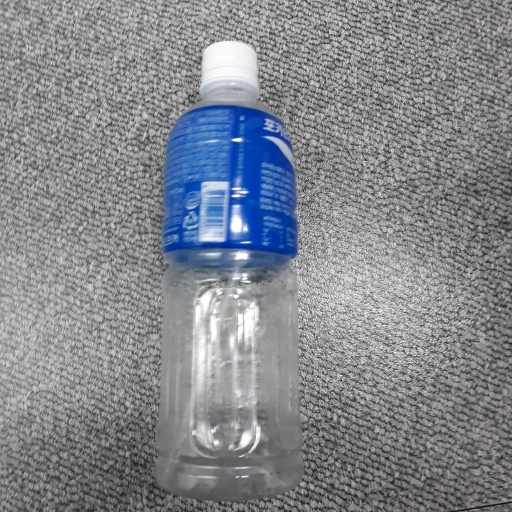Plastic_0: (148, 38, 302, 496)
